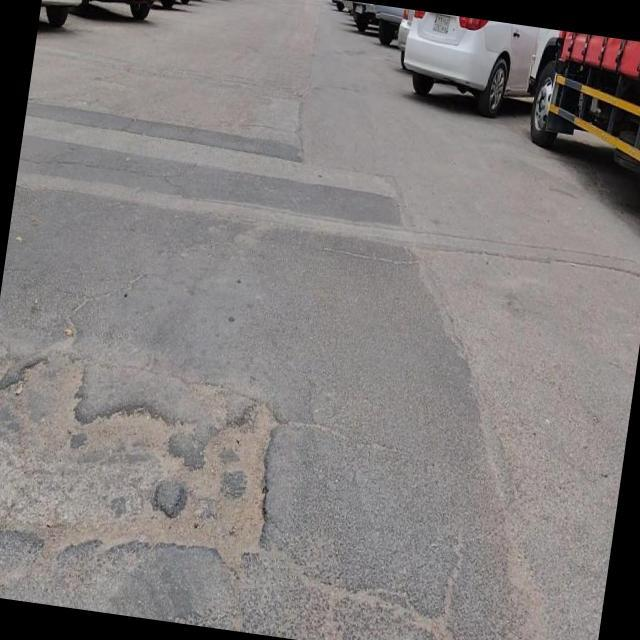Pothole: (37, 397, 180, 555), (163, 399, 284, 576)
